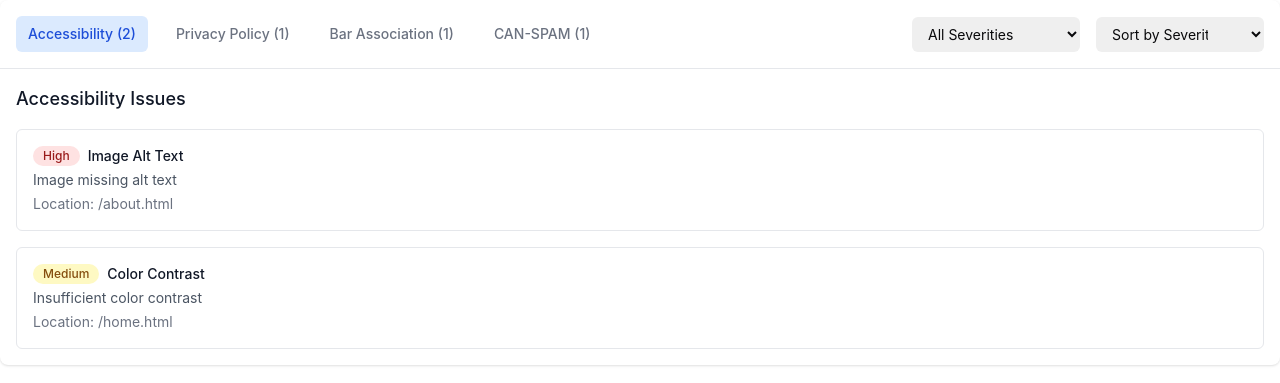
Test: ScanResults › filters issues by severity
Note: There are two comboboxes: [0] is severity, [1] is sort
Select "High" in the 1st dropdown at (996, 34), box [912,16,1080,52]
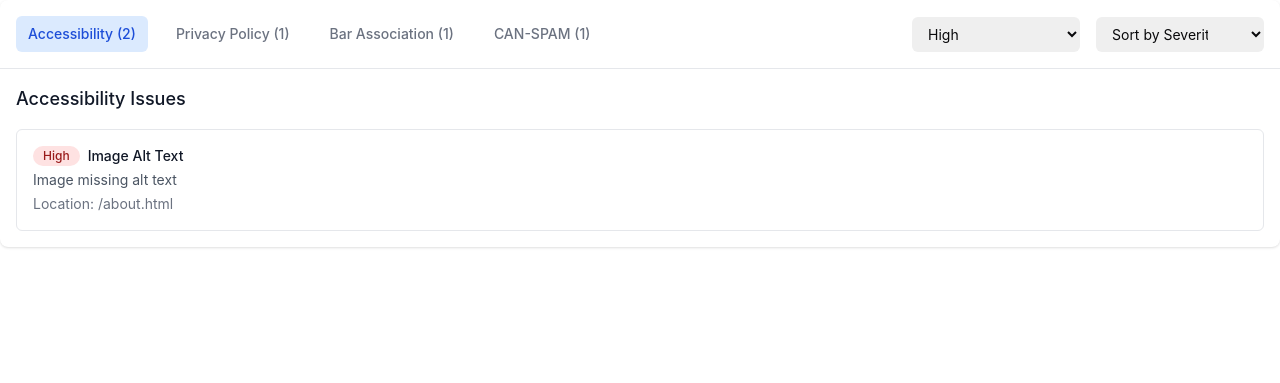
Expected: the text "Image Alt Text" is shown, [88,146,183,166]
Result: the text "Color Contrast" is gone
